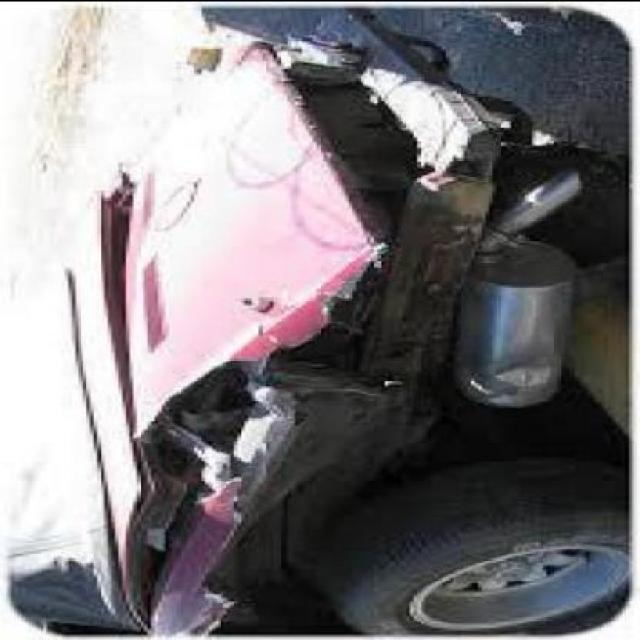damage: (55, 42, 534, 633)
